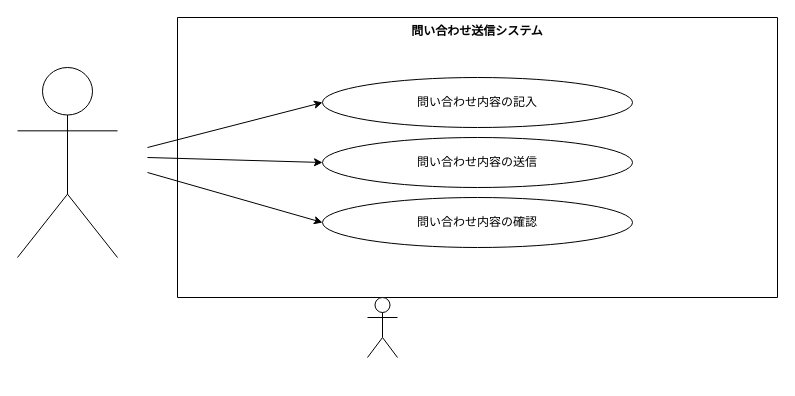
Some shapes in this 795 by 396 pixel diagram are drawn without their labels. The shapes that lost their labels are listed below. From the top down, each one's centre as x and y in pixels, then its label:
point 67,162: 購入者
point 382,327: Actor
